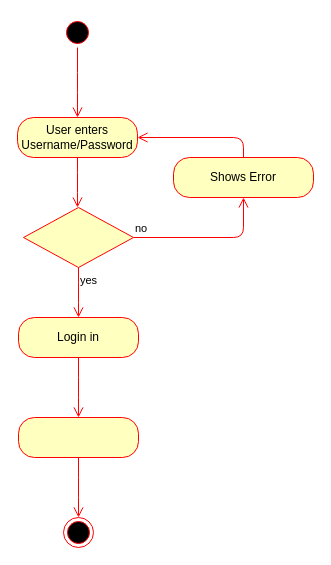
The diagram is 331 pixels wide and 565 high, and some of its shapes have lost their labels. The box of each missing label's shape, as (x1, y1, x2, y2) in pixels:
Correct Input: (22, 206, 134, 268)
Go to User Dashboard: (18, 416, 138, 458)
